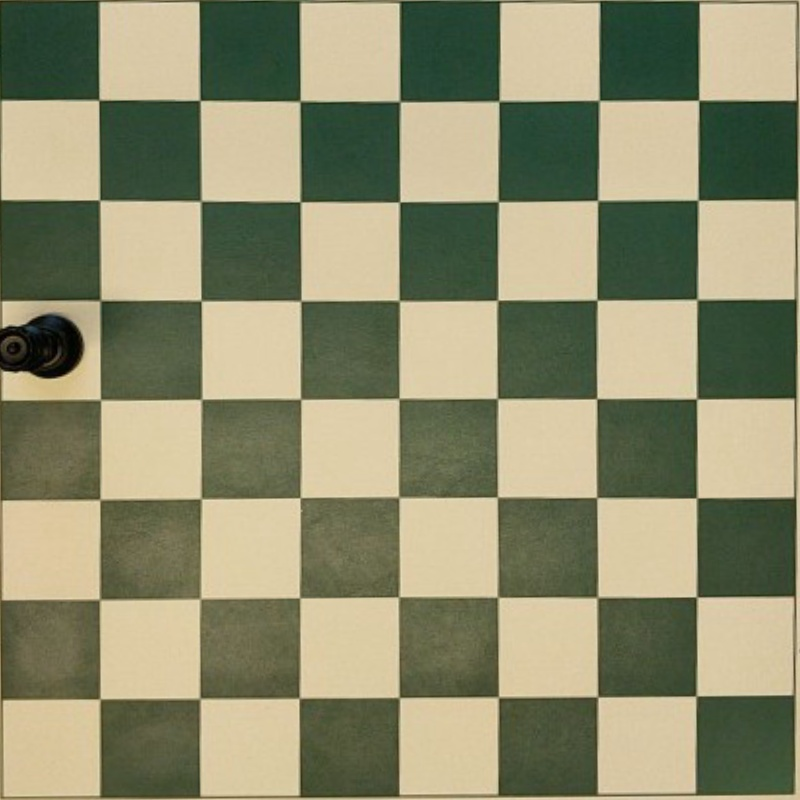black-queen: (0, 313, 83, 378)
